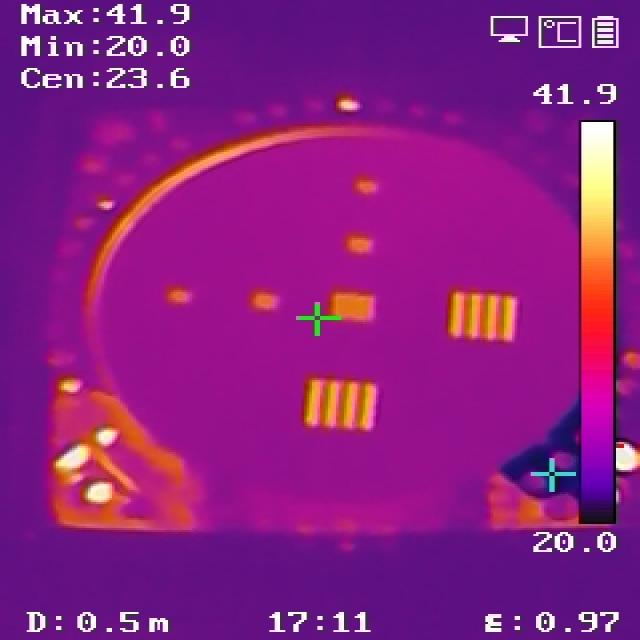Distinguishable 4-bar target: (302, 377, 382, 431), (452, 293, 519, 343)
Indistinguishable 4-bar target: (332, 293, 371, 319)
